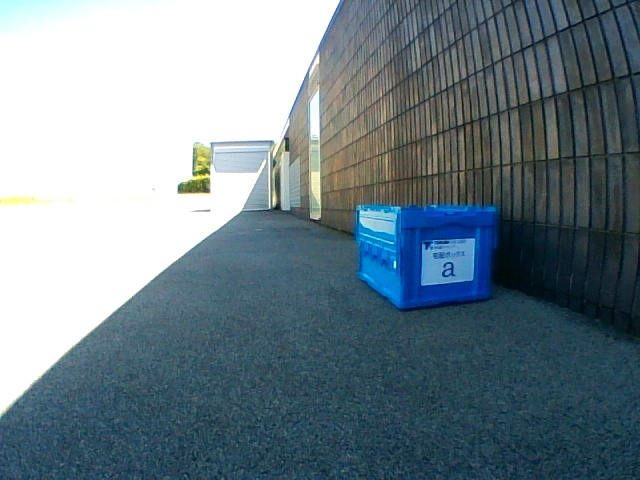blue_box: (357, 204, 496, 309)
tag_a: (427, 243, 470, 280)
